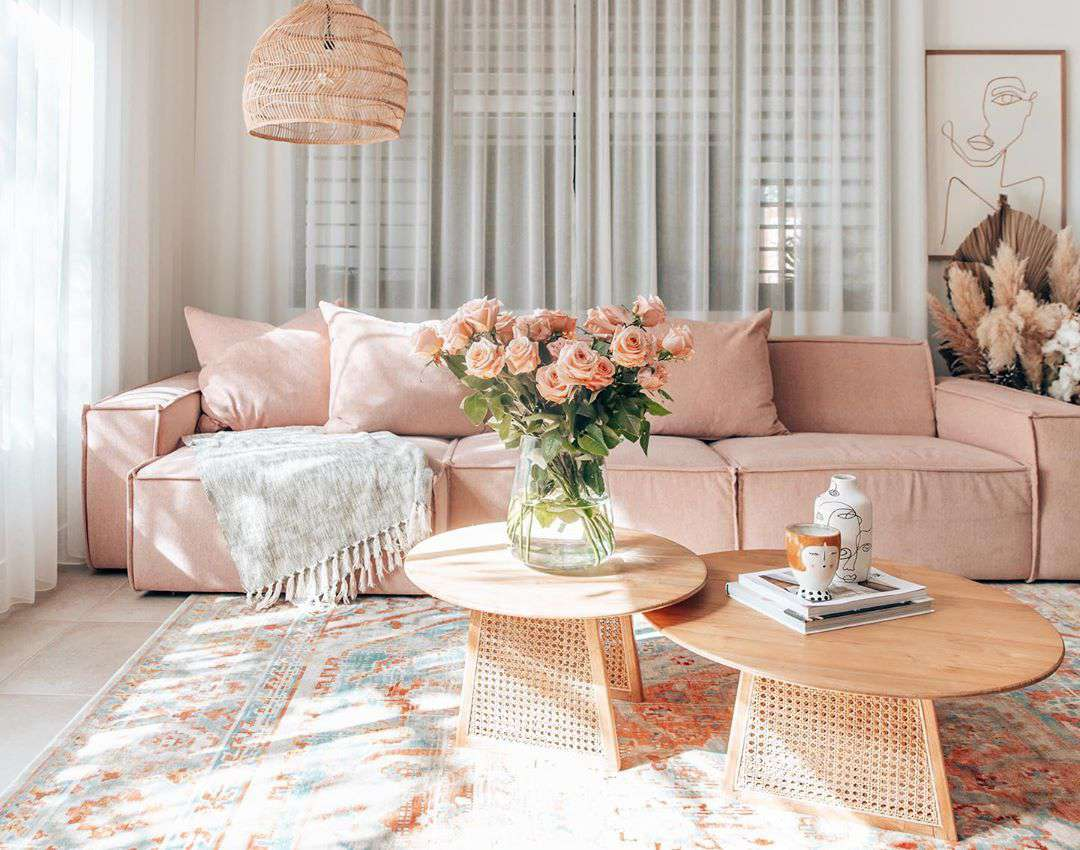coklat: (646, 548, 1062, 834), (407, 525, 701, 752)
pink: (173, 316, 937, 571), (188, 306, 439, 432)
putih: (820, 474, 872, 576)
